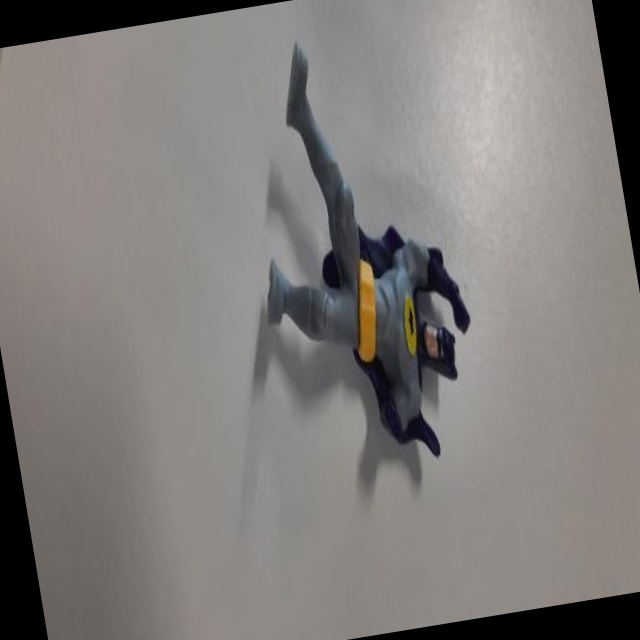Batman: (220, 16, 492, 482)
